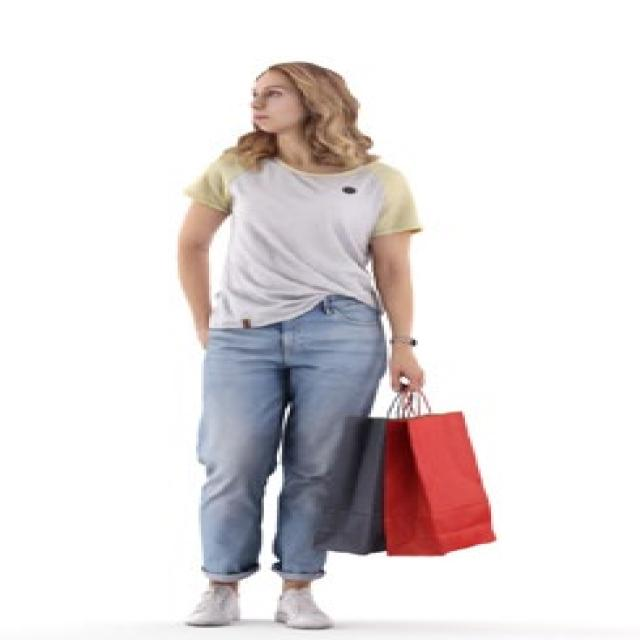standing: (169, 60, 425, 640)
